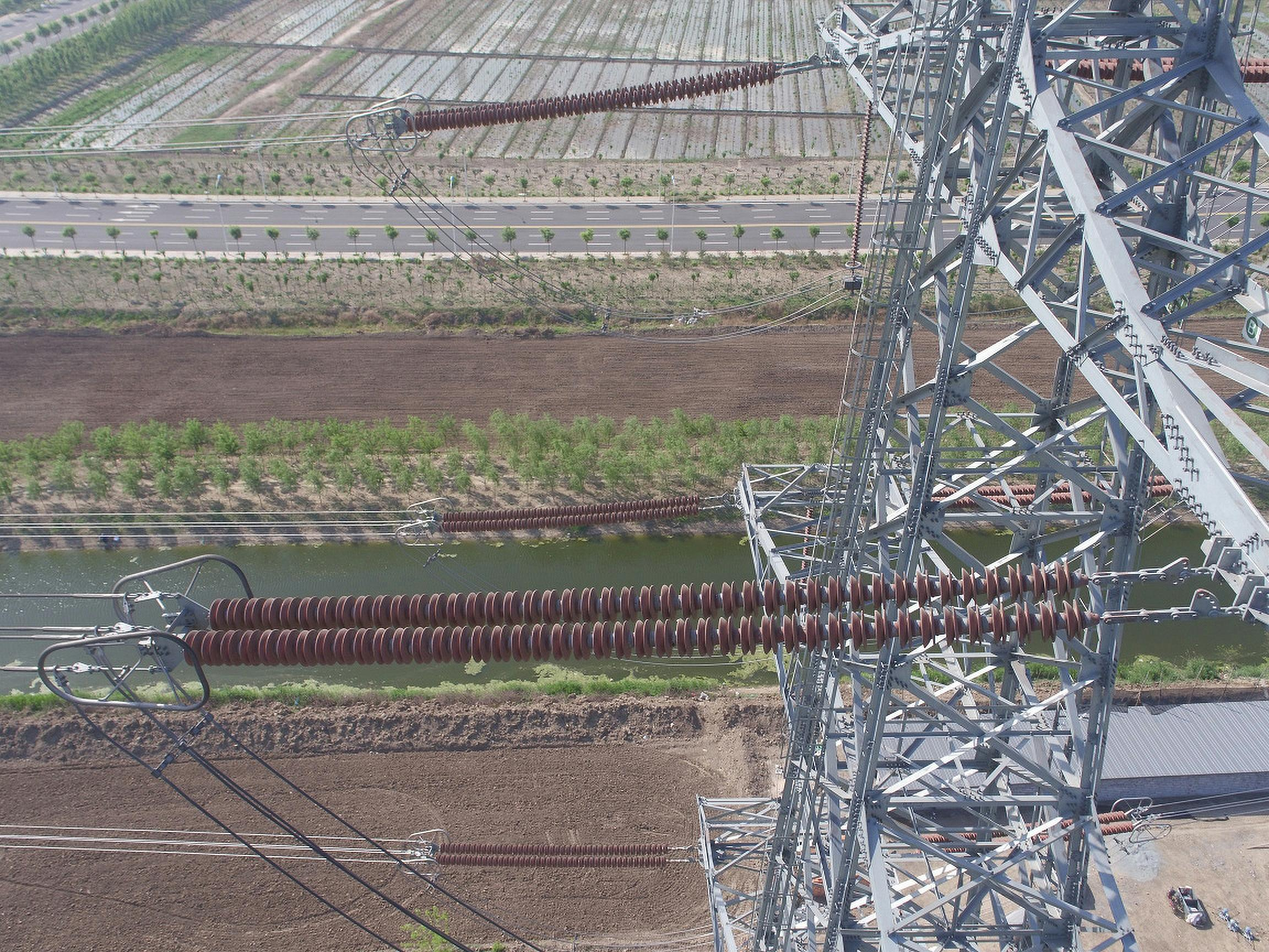insulator: (177, 555, 1089, 672), (404, 58, 779, 134), (440, 492, 702, 534), (915, 809, 1136, 858), (926, 472, 1175, 511), (1042, 52, 1269, 85), (433, 840, 672, 869), (849, 98, 875, 262)
